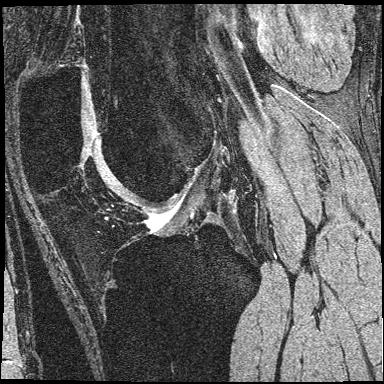SagKneeJointArea: (18, 66, 262, 329)
